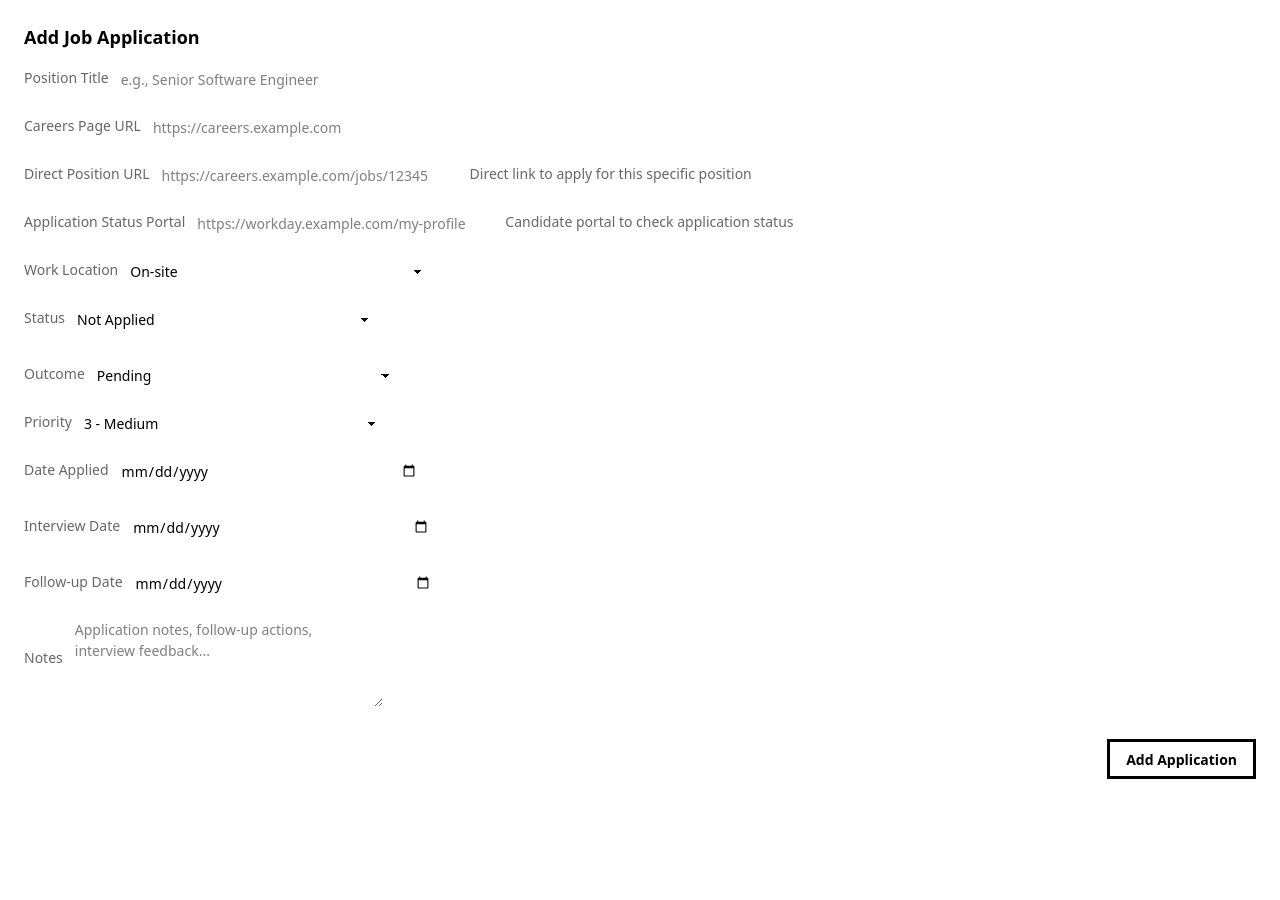
Test: ApplicationForm › URL Validation › shows error for invalid URL
Type "not-a-url" into the field labelled "Careers Page URL" at {"x": 301, "y": 127}, box [141, 107, 461, 147]
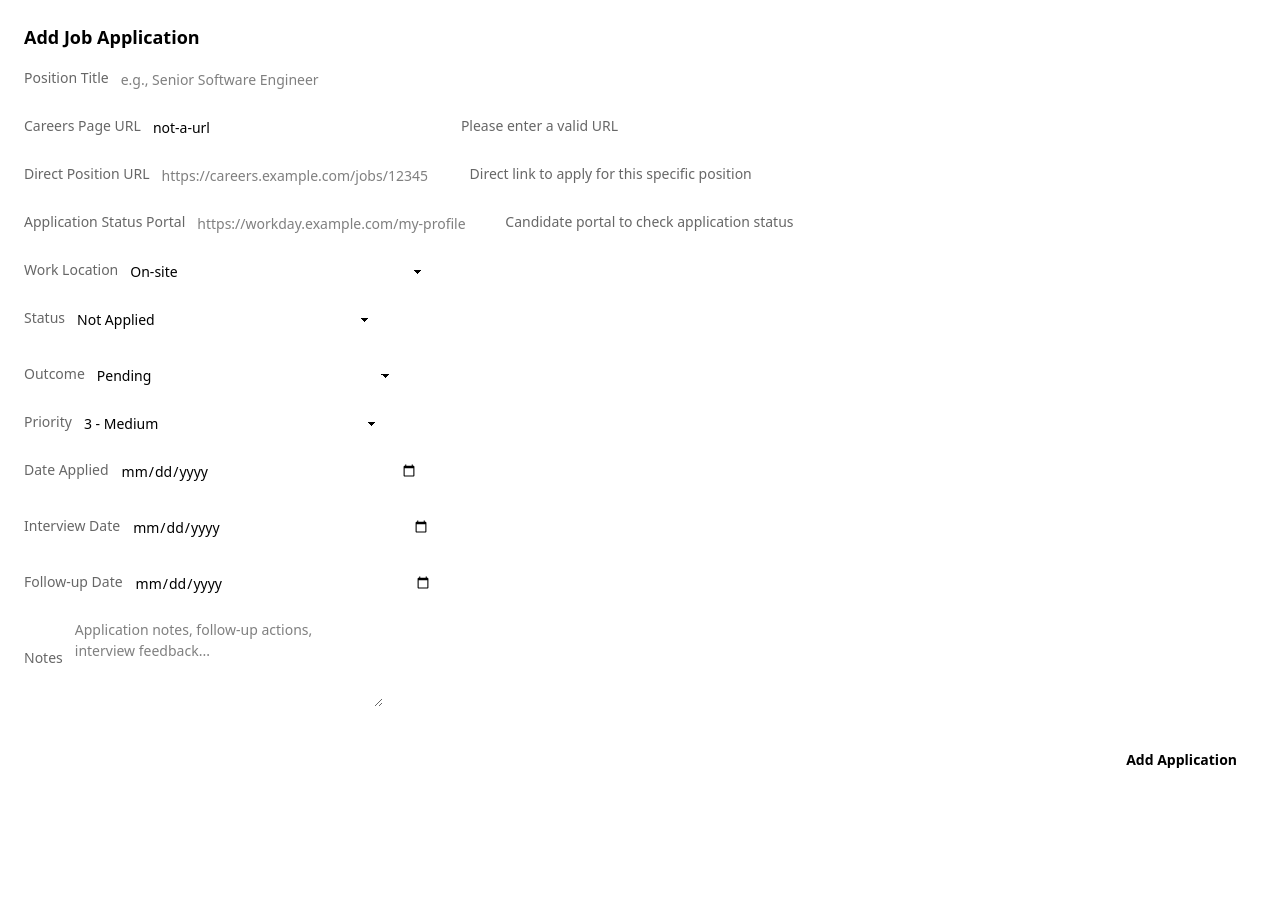
Check: the text "Please enter a valid URL" is shown, box [461, 115, 618, 136]
